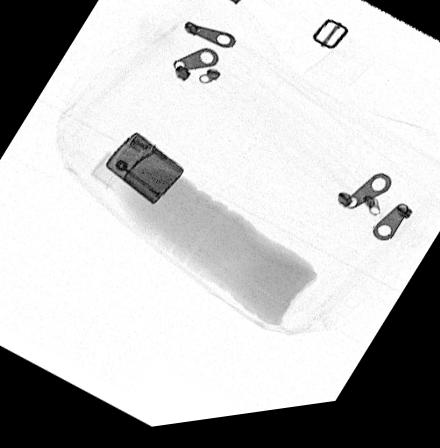Lighter: (102, 133, 186, 207)
